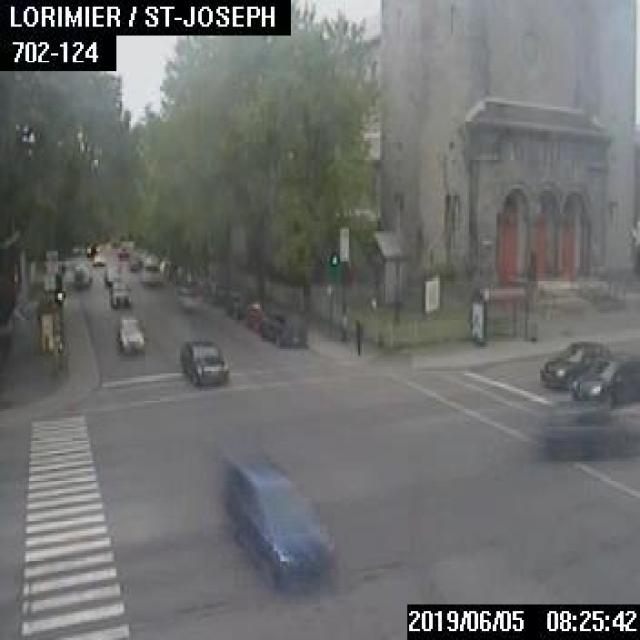pedestrian: (353, 316, 362, 354)
vehicle: (226, 460, 334, 588), (542, 403, 638, 454), (571, 351, 638, 404), (538, 339, 607, 385), (180, 338, 228, 384), (259, 308, 306, 344), (116, 315, 144, 351), (175, 286, 201, 310), (224, 291, 245, 319), (108, 281, 130, 307), (138, 261, 160, 284), (244, 301, 262, 326), (71, 264, 89, 288), (102, 262, 119, 282), (127, 256, 141, 270), (90, 254, 104, 264), (84, 245, 97, 254), (116, 246, 127, 256)
